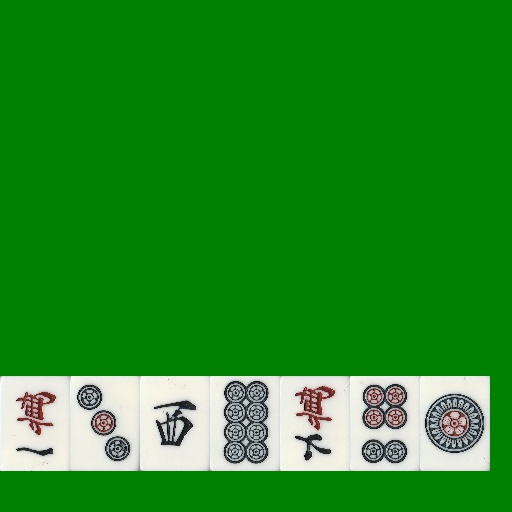1m: (0, 376, 70, 471)
1p: (420, 376, 490, 471)
3p: (70, 376, 140, 471)
6p: (350, 376, 420, 471)
7m: (280, 376, 350, 471)
8p: (210, 376, 280, 471)
west: (140, 376, 210, 471)
